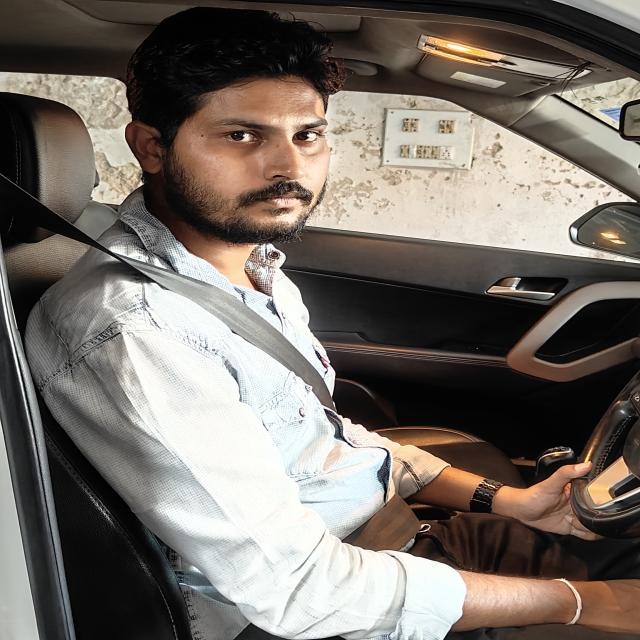seatbelt: (0, 158, 427, 508)
